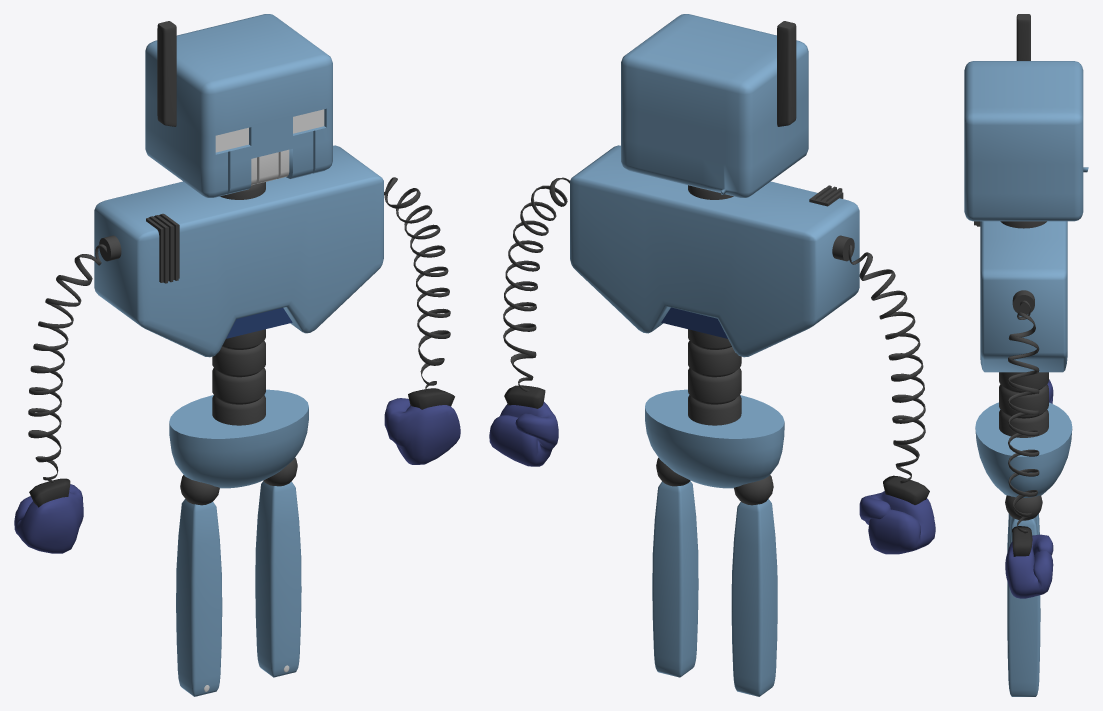
The model's file is gilbert_1.fbx.
3 views of the same model, side by side, from view 1: azimuth 30°, elevation 25°; view 2: azimuth 150°, elevation 25°; view 3: azimuth 270°, elevation 25° (orthographic). The views are drawn at different scales.
Parts seen in each view (by area): view 1: Torso, Head, Torso.003, Leg L, Leg R, Spine, Glove.002, Glove, Plane, Plane.001, Antenna, Torso.002 (+5 smaller); view 2: Torso, Head, Torso.003, Leg R, Leg L, Spine, Glove, Glove.002, Plane, Plane.001, Antenna, Torso.001 (+3 smaller); view 3: Head, Torso, Torso.003, Leg L, Spine, Plane.001, Glove.002, Antenna, Leg L.001, Glove.003, Armplug L.
Boxes of the visible parts, x1,y1,x2,y2 form: Torso: (94,145,383,357); Head: (145,14,332,197); Torso.003: (169,389,308,488); Leg L: (255,481,301,677); Leg R: (176,499,222,696); Spine: (212,182,265,425); Glove.002: (384,398,460,464); Glove: (14,484,83,553); Plane: (28,244,107,482); Plane.001: (384,177,450,391); Antenna: (157,21,176,126); Torso.002: (146,213,179,283); Torso: (570,145,859,357); Head: (621,14,808,197); Torso.003: (645,389,784,488); Leg R: (731,499,777,696); Leg L: (652,481,698,677); Spine: (688,185,741,425); Glove: (859,491,935,554); Glove.002: (489,402,558,466); Plane: (848,245,925,483); Plane.001: (503,177,569,391); Antenna: (777,21,796,126); Torso.001: (661,307,727,338); Head: (964,61,1088,221); Torso: (980,221,1067,372); Torso.003: (975,402,1072,497); Leg L: (1007,517,1040,696); Spine: (999,221,1048,437); Plane.001: (1008,300,1039,533); Glove.002: (1005,534,1053,598); Antenna: (1016,14,1030,60); Leg L.001: (1005,495,1042,520); Glove.003: (1012,526,1032,556); Armplug L: (1012,290,1034,314).
Size of the model in its own units: 307 by 454 by 81.76.
